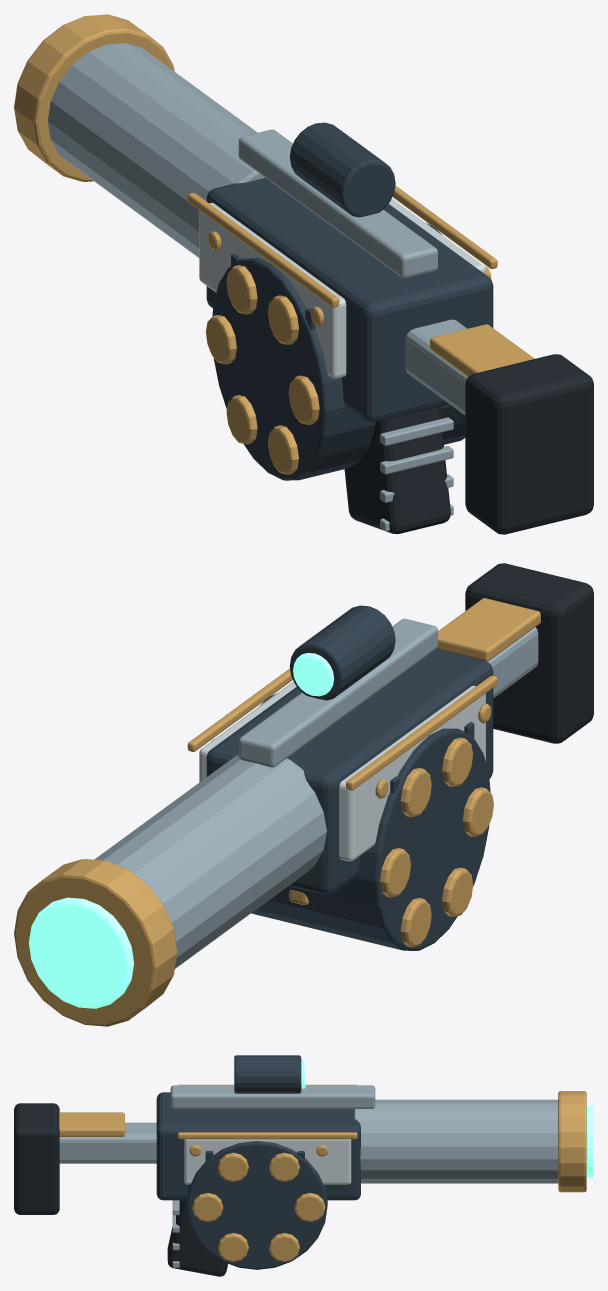
The model's file is grenade_launcher.glb.
The picture shows the model from 3 angles, top to bottom: view 1: azimuth 30°, elevation 25°; view 2: azimuth 150°, elevation 25°; view 3: azimuth 270°, elevation 25°; orthographic projection. The views are drawn at different scales.
Parts seen in each view (by area): view 1: ZW4_grenade_launcher; view 2: ZW4_grenade_launcher; view 3: ZW4_grenade_launcher.
Part boxes in pixels (box(x1,y1,x2,y2)): ZW4_grenade_launcher: box(14, 14, 593, 534); ZW4_grenade_launcher: box(14, 563, 593, 1026); ZW4_grenade_launcher: box(14, 1055, 593, 1276).
Size of the model in its own units: 0.37 by 0.6654 by 1.65.
